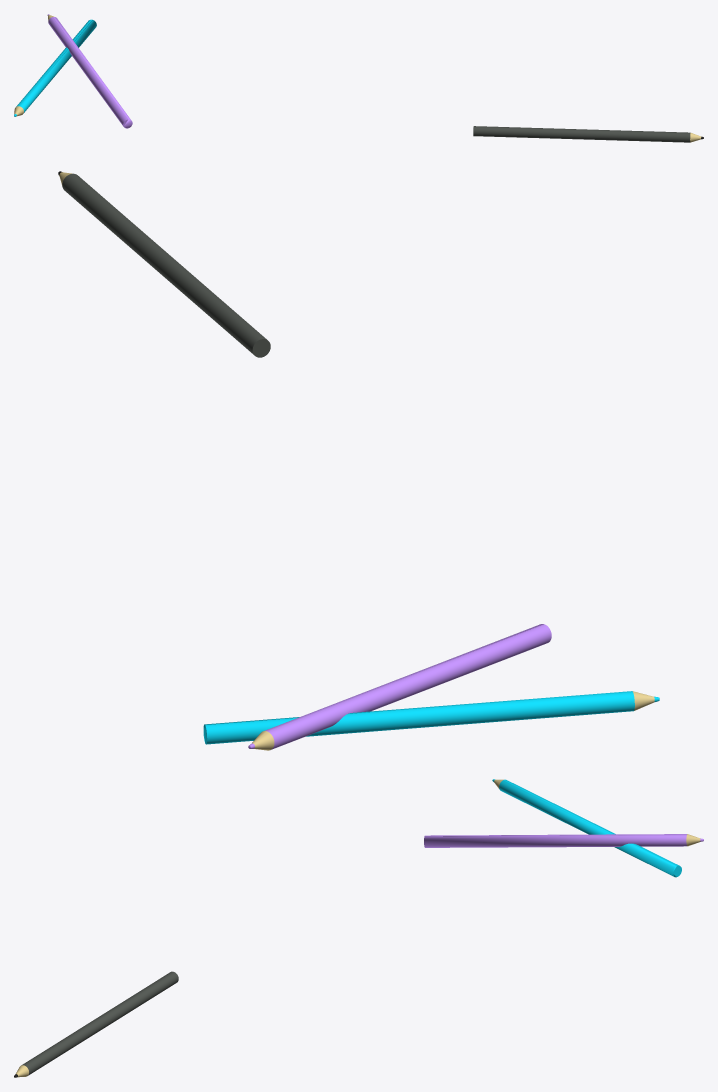
File: Lapis espalhados(mesa).fbx
3 renders of one model, top to bottom at view 1: azimuth 30°, elevation 25°; view 2: azimuth 150°, elevation 25°; view 3: azimuth 270°, elevation 25°, orthographic. The views are drawn at different scales.
Parts seen in each view (by area): view 1: Cylinder.003; view 2: Cylinder.003; view 3: Cylinder.003.
Boxes of the visible parts, x1,y1,x2,y2 form: Cylinder.003: (14, 14, 703, 142); Cylinder.003: (58, 171, 659, 750); Cylinder.003: (14, 779, 703, 1077).
Size of the model in its own units: 62.94 by 3.15 by 61.77.
